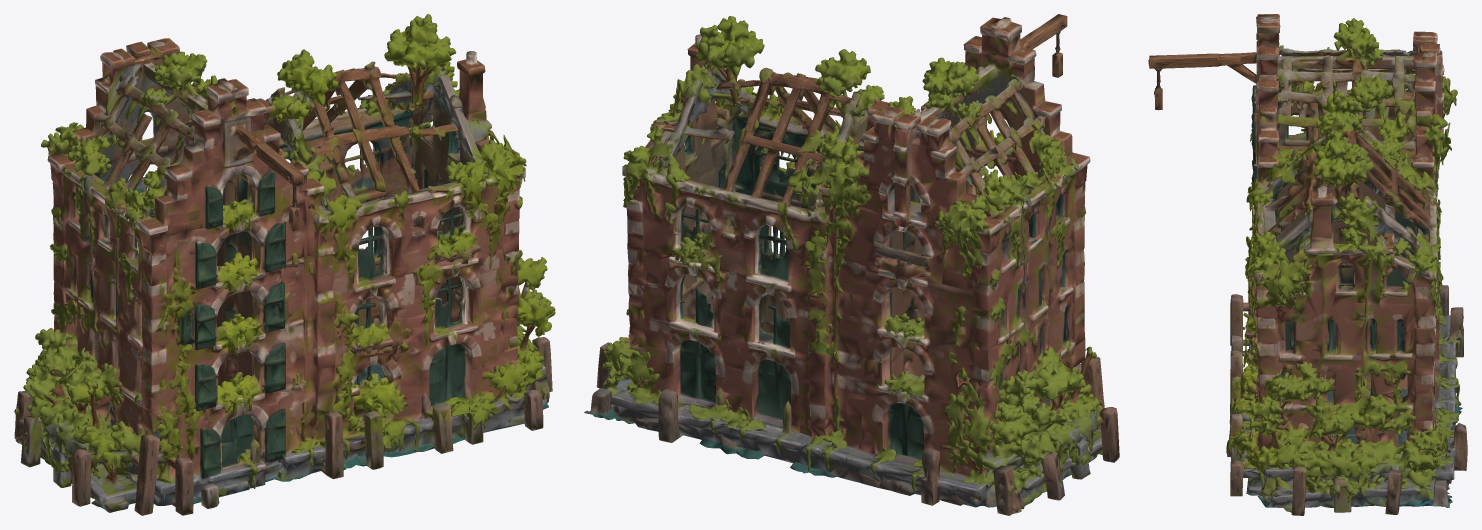
Rendered from cityWarehouseHi.glb.
3 views of the same model, side by side, from view 1: azimuth 30°, elevation 25°; view 2: azimuth 150°, elevation 25°; view 3: azimuth 270°, elevation 25° (orthographic). The views are drawn at different scales.
Bounding box in the file's own units: 1.9 × 1.54 × 1.26.
1 material, 1 textured.
